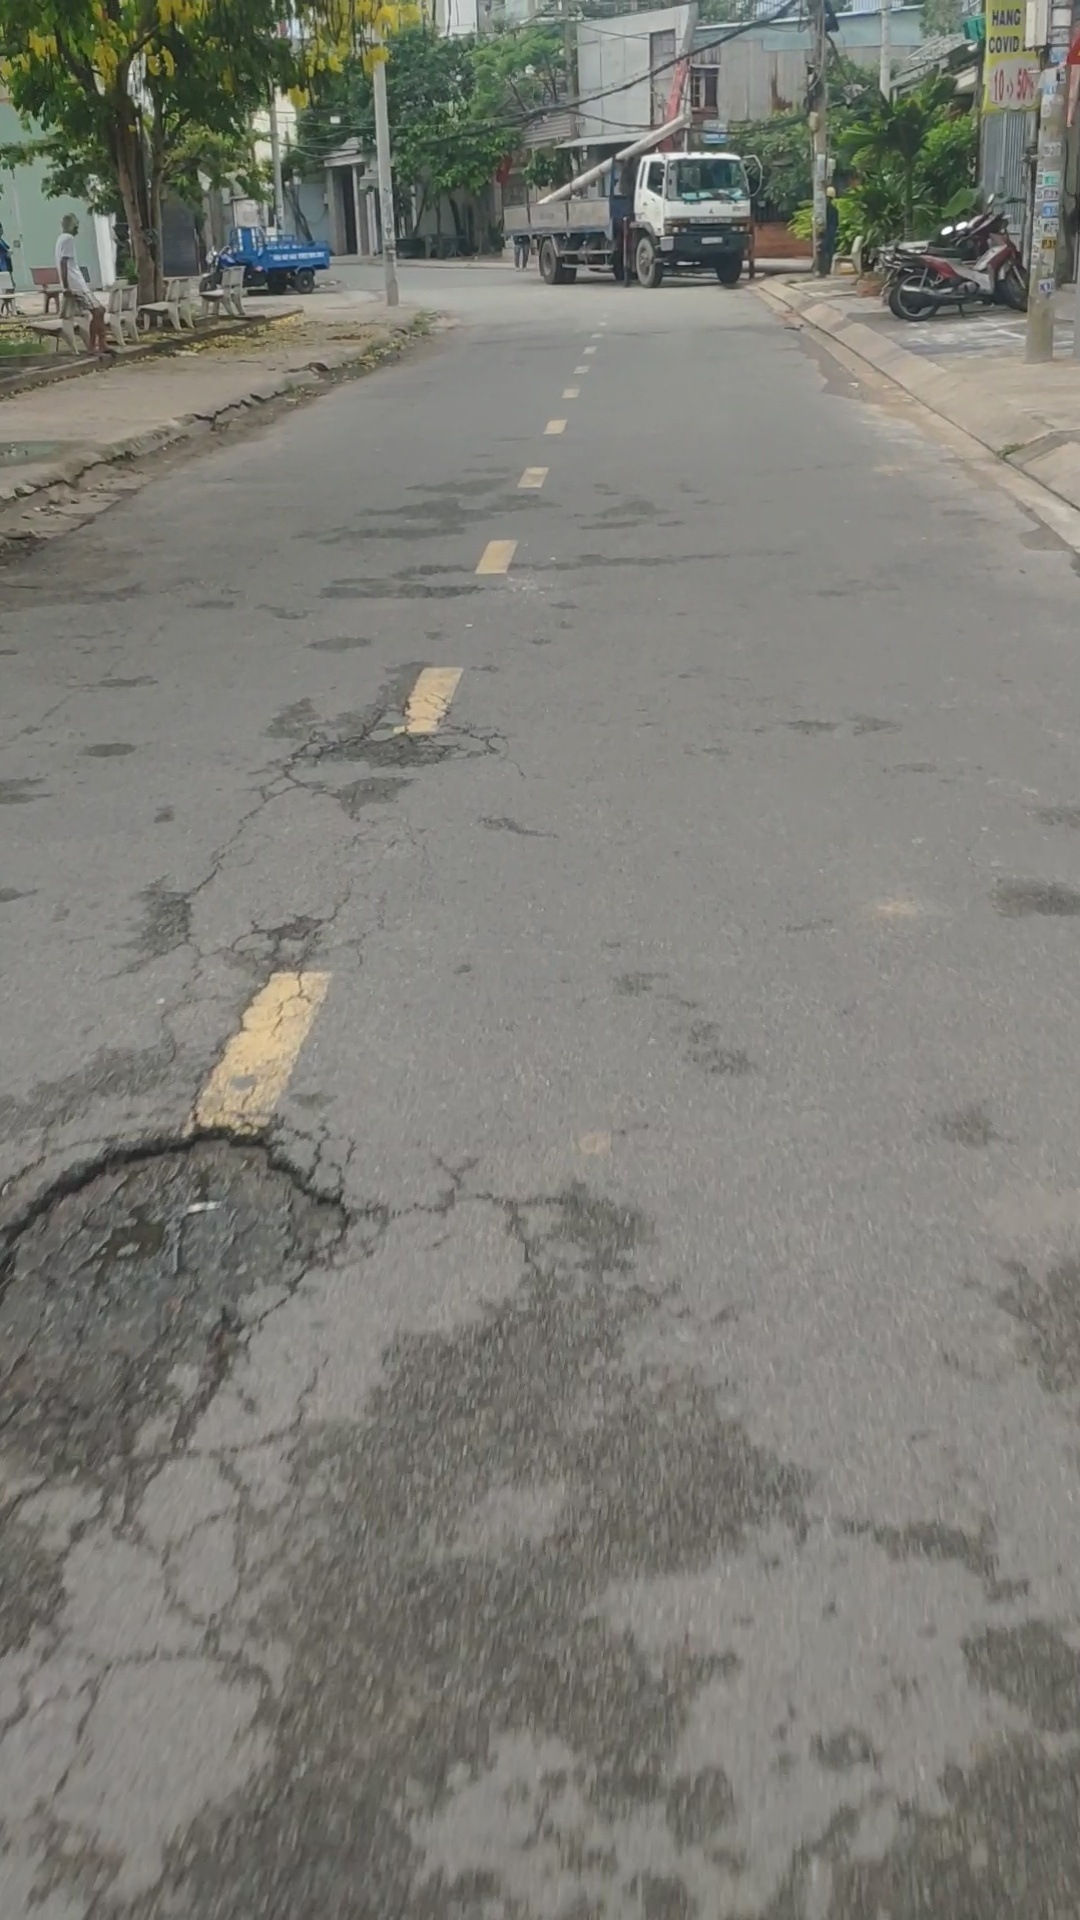hole: (1, 1095, 372, 1530), (280, 687, 520, 789)
